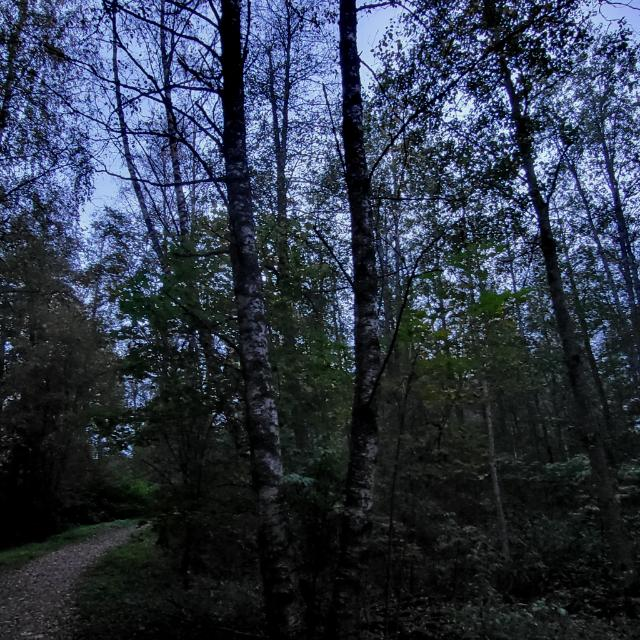birch: (316, 0, 462, 628), (194, 1, 302, 640)
